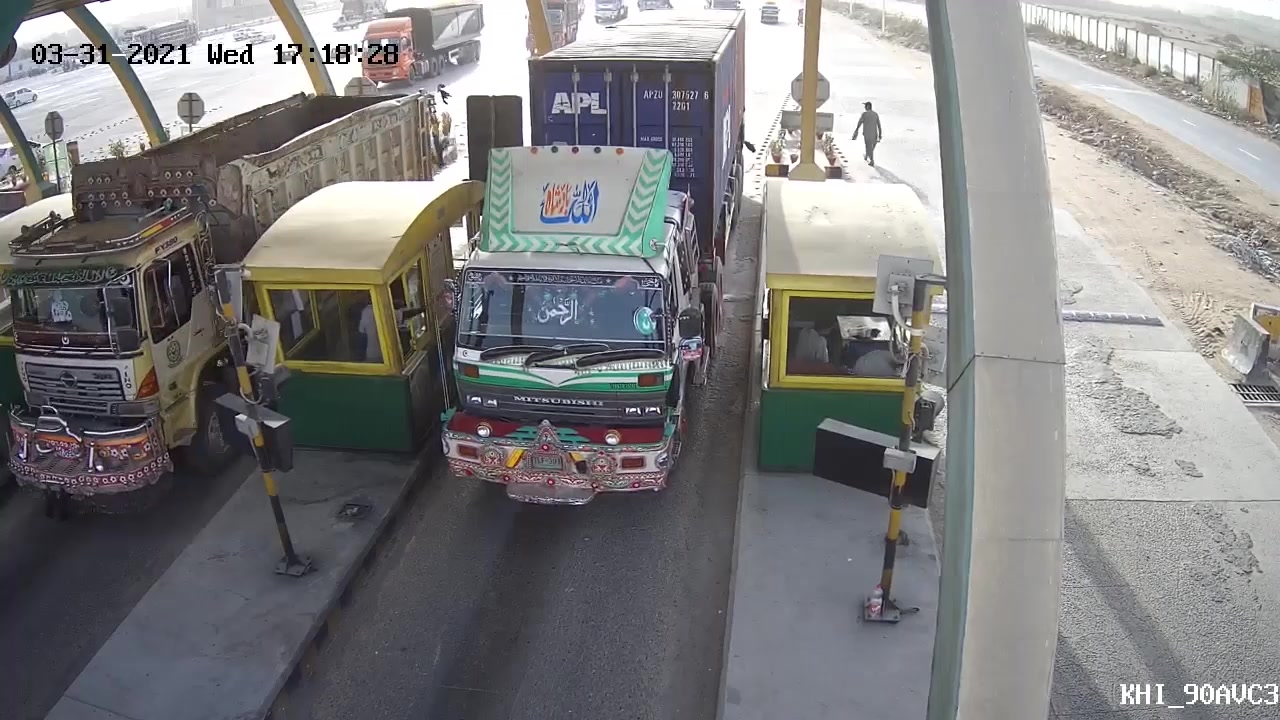F6: (433, 53, 729, 526)
